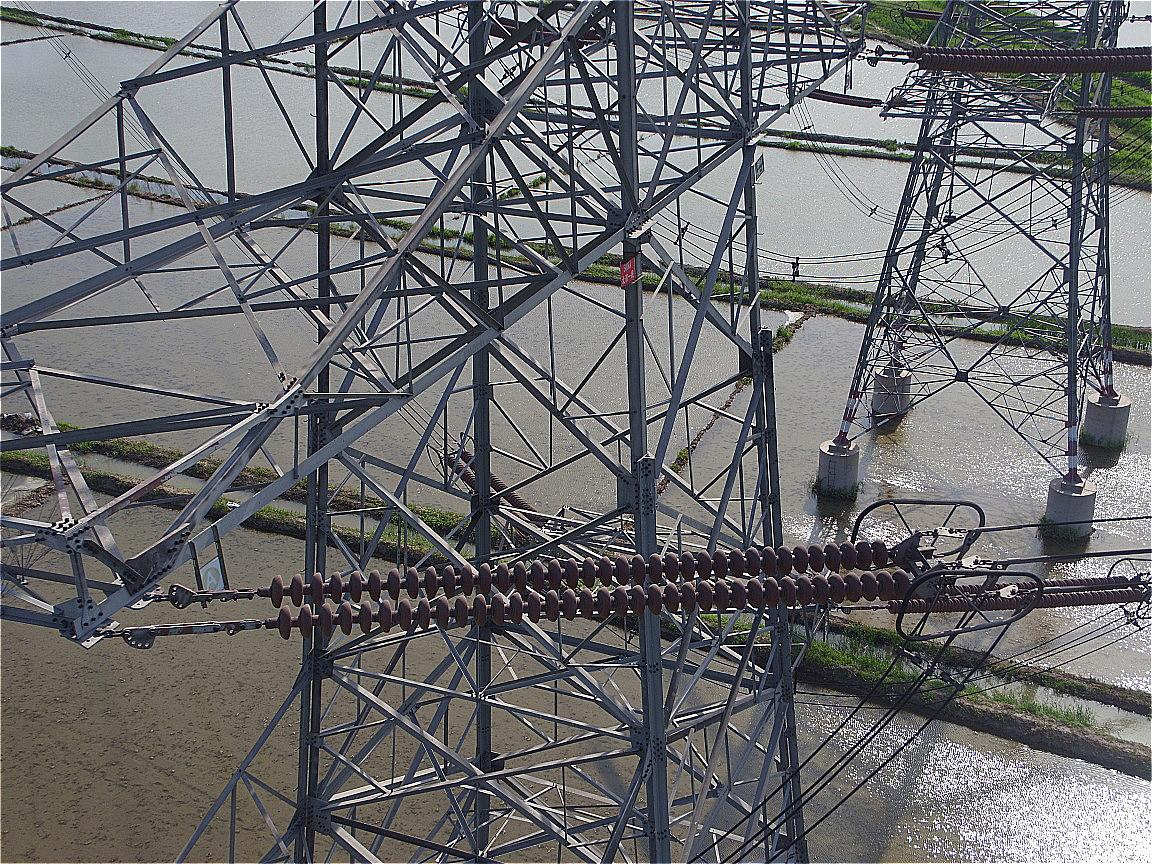insultor1: (268, 537, 910, 640)
